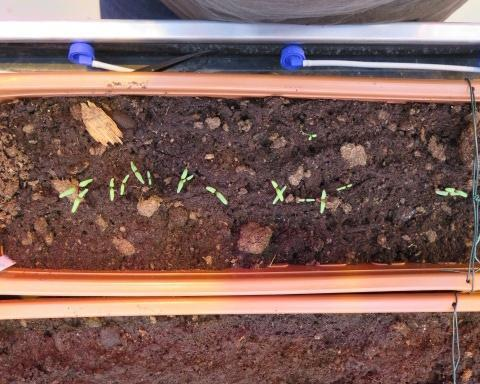crop: (203, 184, 227, 205), (317, 186, 327, 214)
